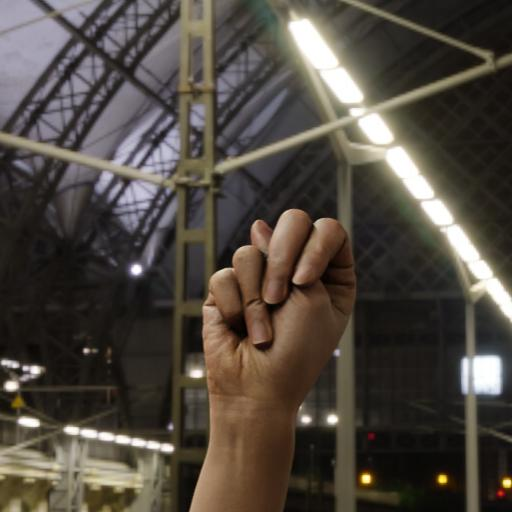N: (191, 192, 366, 502)
